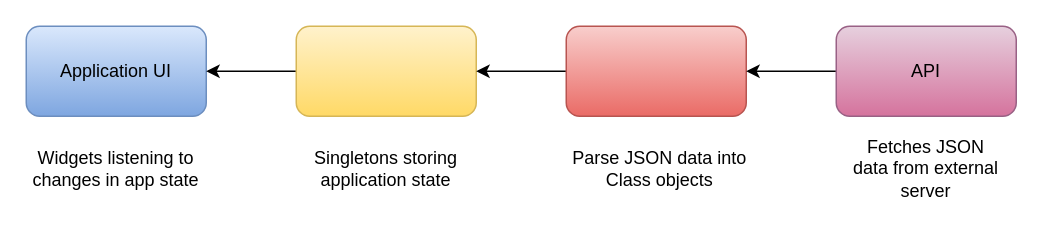
Image size: 1043x248. Some labels were removed from this diagram. The shapes that lost their labels are listed below. From the top down, each one's box as (x1, y1, x2, y2) in pixels, then its label:
(295, 25, 476, 116): View Models
(565, 25, 746, 116): Respository
